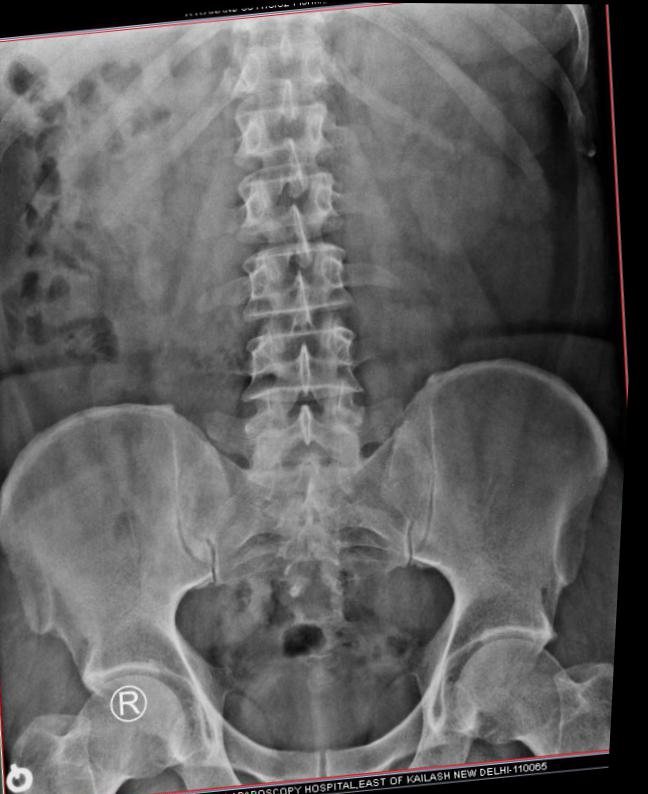vertebrae: (228, 97, 338, 169)
